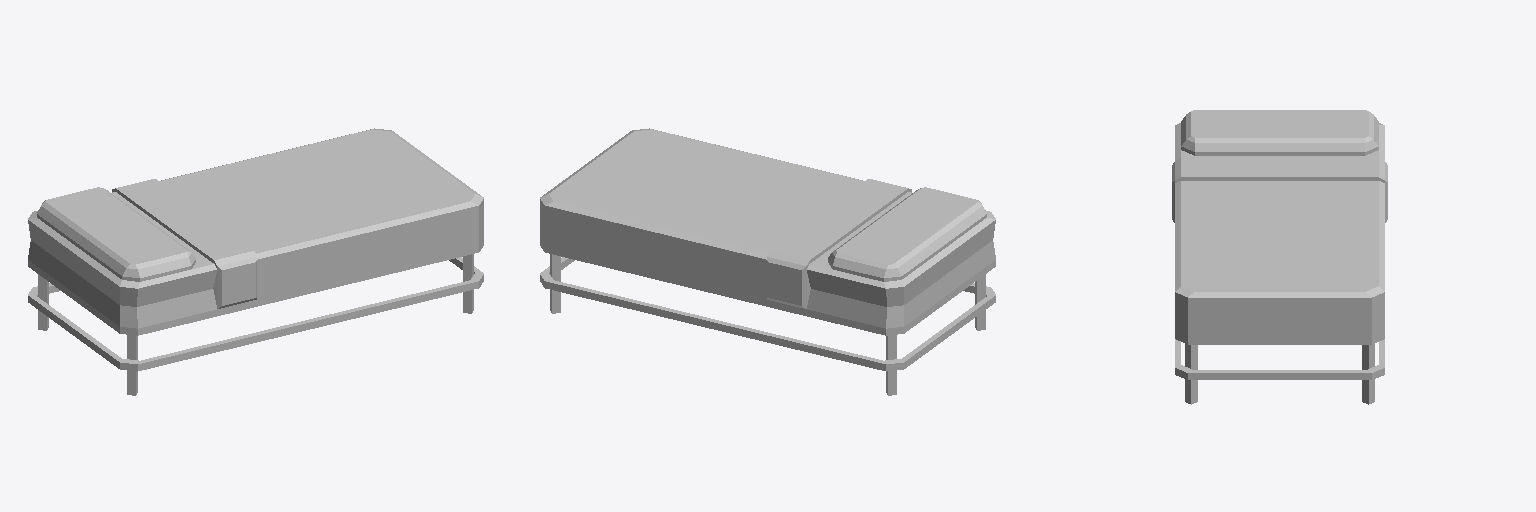
File: BedH1.obj
The picture shows the model from 3 angles: view 1: azimuth 30°, elevation 25°; view 2: azimuth 150°, elevation 25°; view 3: azimuth 270°, elevation 25°; orthographic projection.
Parts seen in each view (by area): view 1: Bed_BedMesh; view 2: Bed_BedMesh; view 3: Bed_BedMesh.
Boxes of the visible parts, x1,y1,x2,y2 form: Bed_BedMesh: [28, 128, 483, 395]; Bed_BedMesh: [540, 128, 995, 395]; Bed_BedMesh: [1172, 110, 1387, 404].
Bounding box in the file's own units: 128 × 43 × 66.